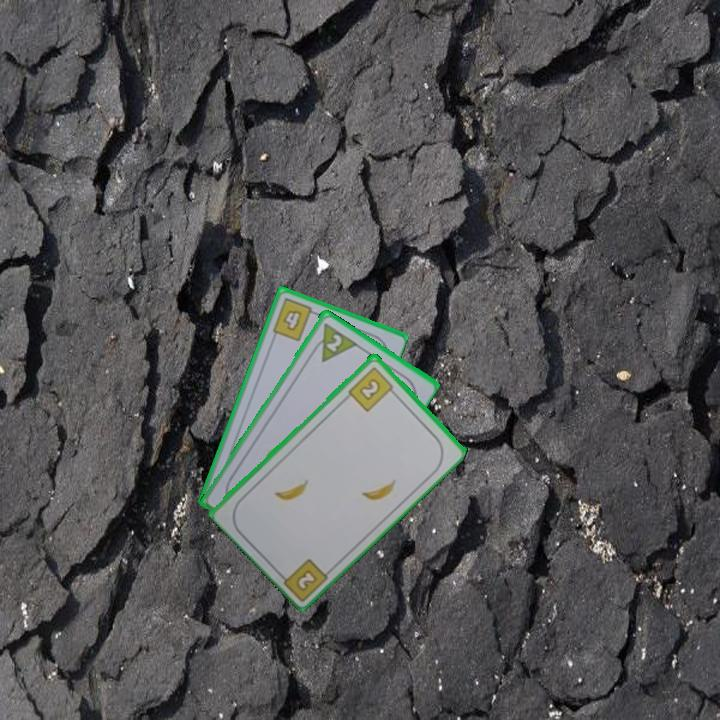2b: (345, 363, 399, 414), (295, 565, 320, 591)
2p: (307, 319, 359, 365)
4b: (268, 294, 320, 344)
